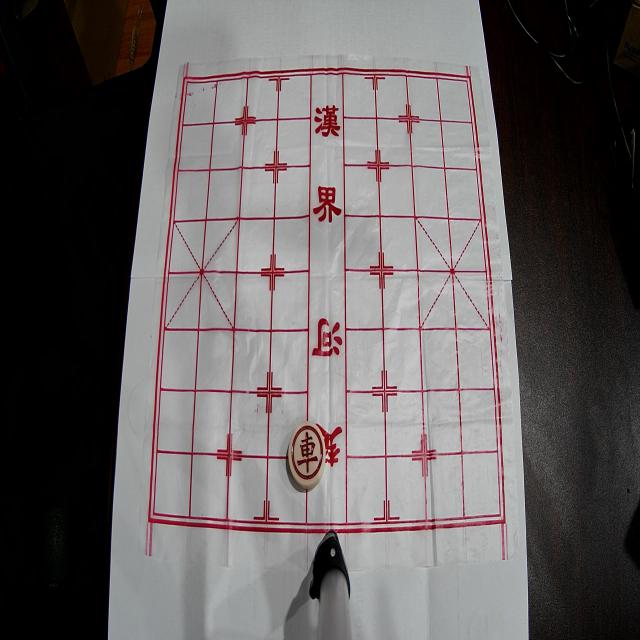red-chariot: (288, 421, 326, 489)
